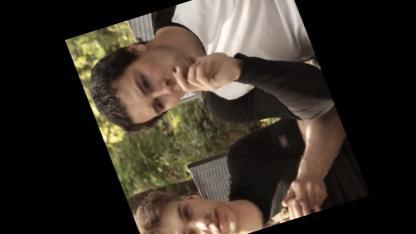knife: (238, 176, 333, 230)
